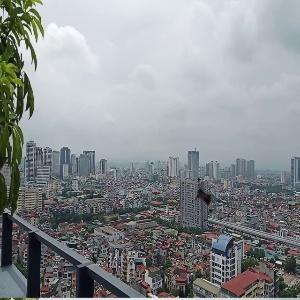drone: (180, 174, 230, 224)
